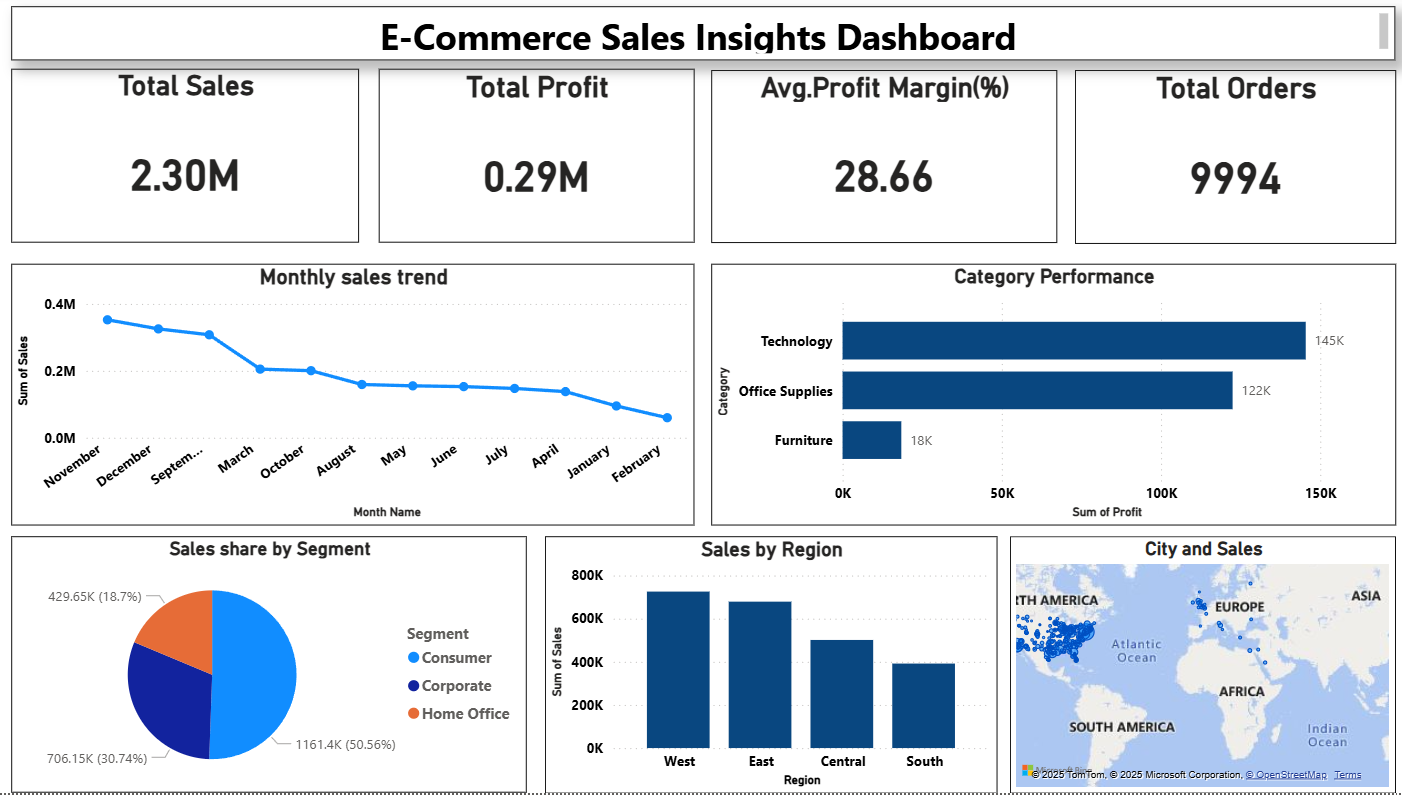

What the dashboard file says about the page in this screenshot:
{"tool":"powerbi","page":{"name":"Page 1","canvas":[1280,720],"ordinal":0},"visuals":[{"type":"card","title":"Total Sales","fields":{"Values":["Sum(Orders.Sales)"]},"box":[23.3,66.3,314,157],"z":0},{"type":"card","title":"Total Profit","fields":{"Values":["Sum(Orders.Profit)"]},"box":[354.7,66.3,284.9,157],"z":1000},{"type":"card","title":"Avg.Profit Margin(%)","fields":{"Values":["Avg(Orders.Profit)"]},"box":[654.7,67.4,311.6,155.8],"z":2000},{"type":"card","title":"Total Orders","fields":{"Values":["CountNonNull(Orders.Order ID)"]},"box":[982.6,67.4,289.5,157],"z":3000},{"type":"lineChart","title":"Monthly sales trend","fields":{"Category":["Orders.Month Name"],"Y":["Sum(Orders.Sales)"]},"box":[23.3,241.9,616.3,236],"z":4000},{"type":"barChart","title":"Category Performance","fields":{"Category":["Orders.Category"],"Y":["Sum(Orders.Profit)"]},"box":[654.7,241.9,617.4,236],"z":5000},{"type":"pieChart","title":"Sales share by Segment","fields":{"Category":["Orders.Segment"],"Y":["Sum(Orders.Sales)"]},"box":[23.3,488.4,465.1,231.4],"z":6000},{"type":"columnChart","title":"Sales by Region","fields":{"Category":["Orders.Region"],"Y":["Sum(Orders.Sales)"]},"box":[504.9,488,408,232.2],"z":7000},{"type":"map","title":"City and Sales","fields":{"Category":["Orders.City"],"Size":["Sum(Orders.Sales)"]},"box":[924.2,488,348.3,232.2],"z":8000},{"type":"textbox","box":[23.7,10.1,1247.7,48.5],"z":8001}]}

Visuals, with their boxes in screenshot pixels (x1, y1, x2, y2), scaled from the page's 1280x720 canvas onto the 1402x795 screenshot:
"Total Sales" card: (26, 73, 369, 247)
"Total Profit" card: (389, 73, 701, 247)
"Avg.Profit Margin(%)" card: (717, 74, 1058, 246)
"Total Orders" card: (1076, 74, 1393, 248)
"Monthly sales trend" lineChart: (26, 267, 701, 528)
"Category Performance" barChart: (717, 267, 1393, 528)
"Sales share by Segment" pieChart: (26, 539, 535, 794)
"Sales by Region" columnChart: (553, 539, 1000, 794)
"City and Sales" map: (1012, 539, 1394, 794)
textbox: (26, 11, 1393, 65)
